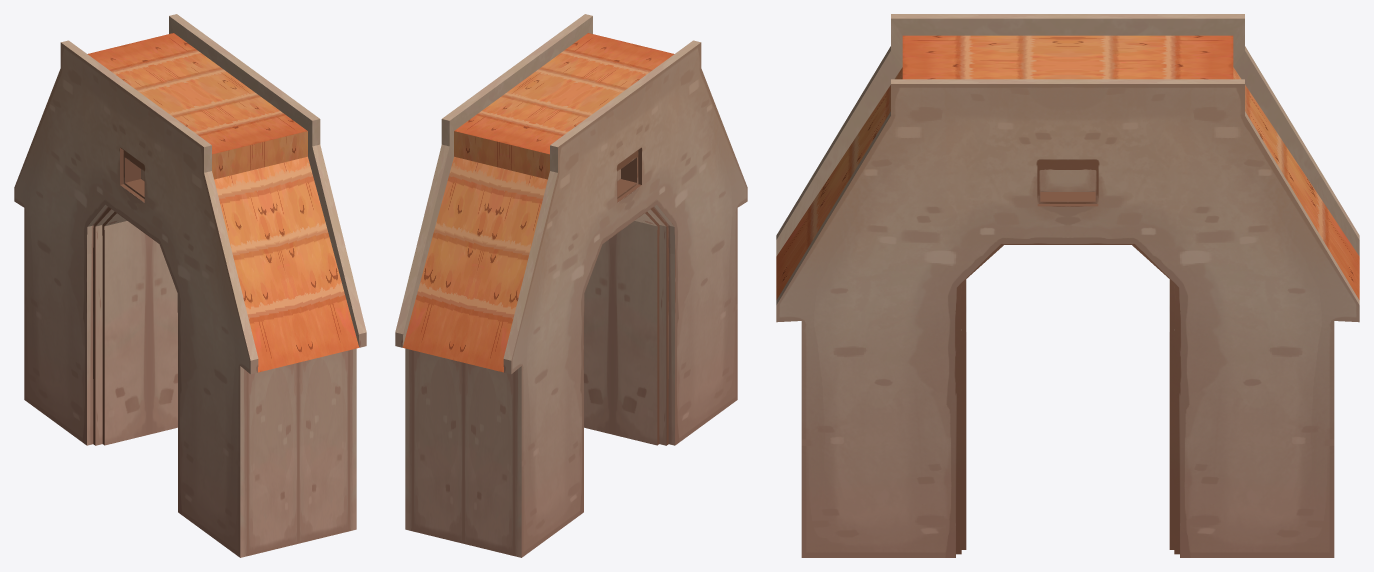
File: Arch.fbx
3 renders of one model, left to right at view 1: azimuth 30°, elevation 25°; view 2: azimuth 150°, elevation 25°; view 3: azimuth 270°, elevation 25°, orthographic. The views are drawn at different scales.
Visible parts, largest first — view 1: Cube.007; view 2: Cube.007; view 3: Cube.007.
Boxes of the visible parts, x1,y1,x2,y2 form: Cube.007: [14, 14, 366, 557]; Cube.007: [395, 14, 747, 557]; Cube.007: [776, 14, 1359, 557].
Size of the model in its own units: 149 by 472 by 526.
